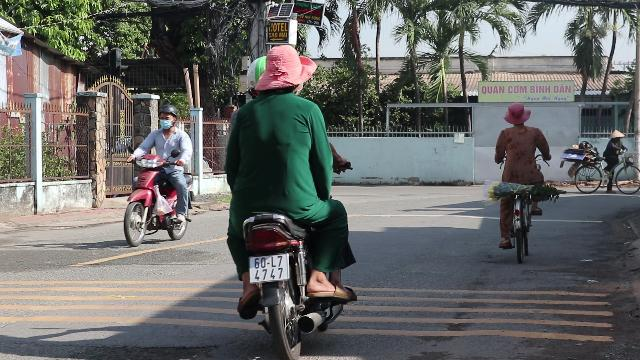helmet: (246, 54, 266, 98), (156, 104, 178, 130)
licenseplate: (250, 254, 290, 282)
motorcyclist: (216, 44, 362, 354), (120, 103, 196, 245)
nohelmet: (253, 44, 313, 98)
